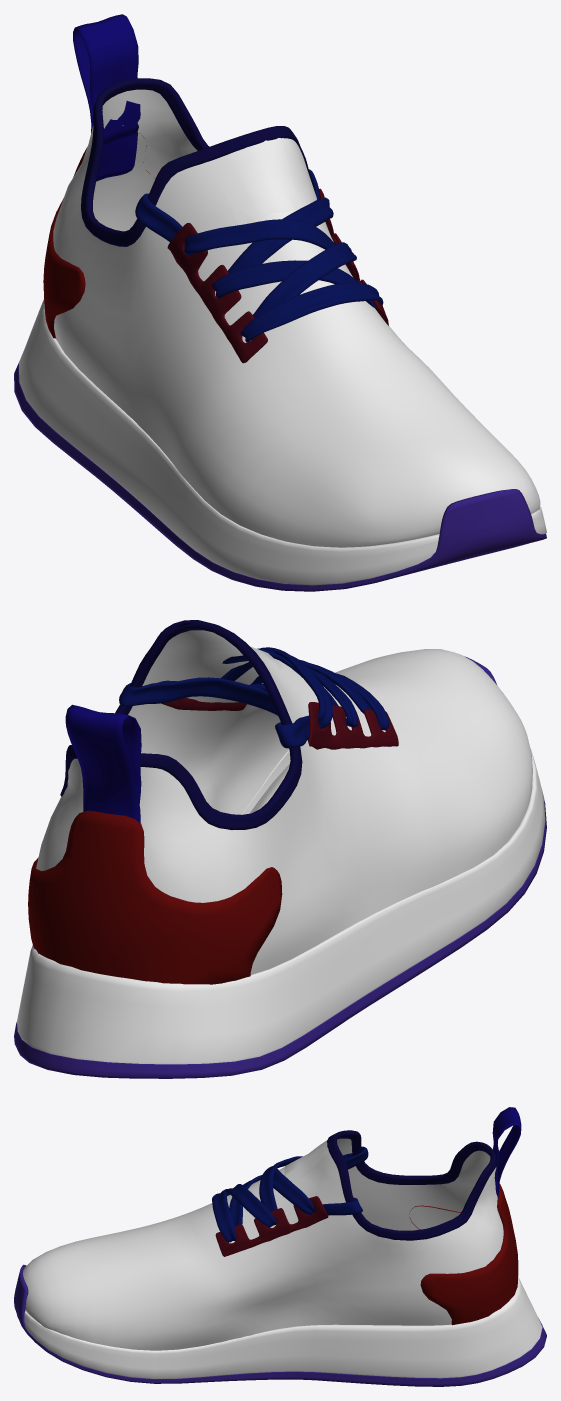
File: shakers.glb
The picture shows the model from 3 angles, top to bottom: view 1: azimuth 30°, elevation 25°; view 2: azimuth 150°, elevation 25°; view 3: azimuth 270°, elevation 25°; orthographic projection. The views are drawn at different scales.
Visible parts, largest first — view 1: Object; view 2: Object; view 3: Object.
Part boxes in pixels (left/top/right/bottom): Object: left=14, top=14, right=546, bottom=591; Object: left=14, top=620, right=546, bottom=1078; Object: left=14, top=1107, right=546, bottom=1386.
Size of the model in its own units: 0.0982 by 0.125 by 0.2542.
